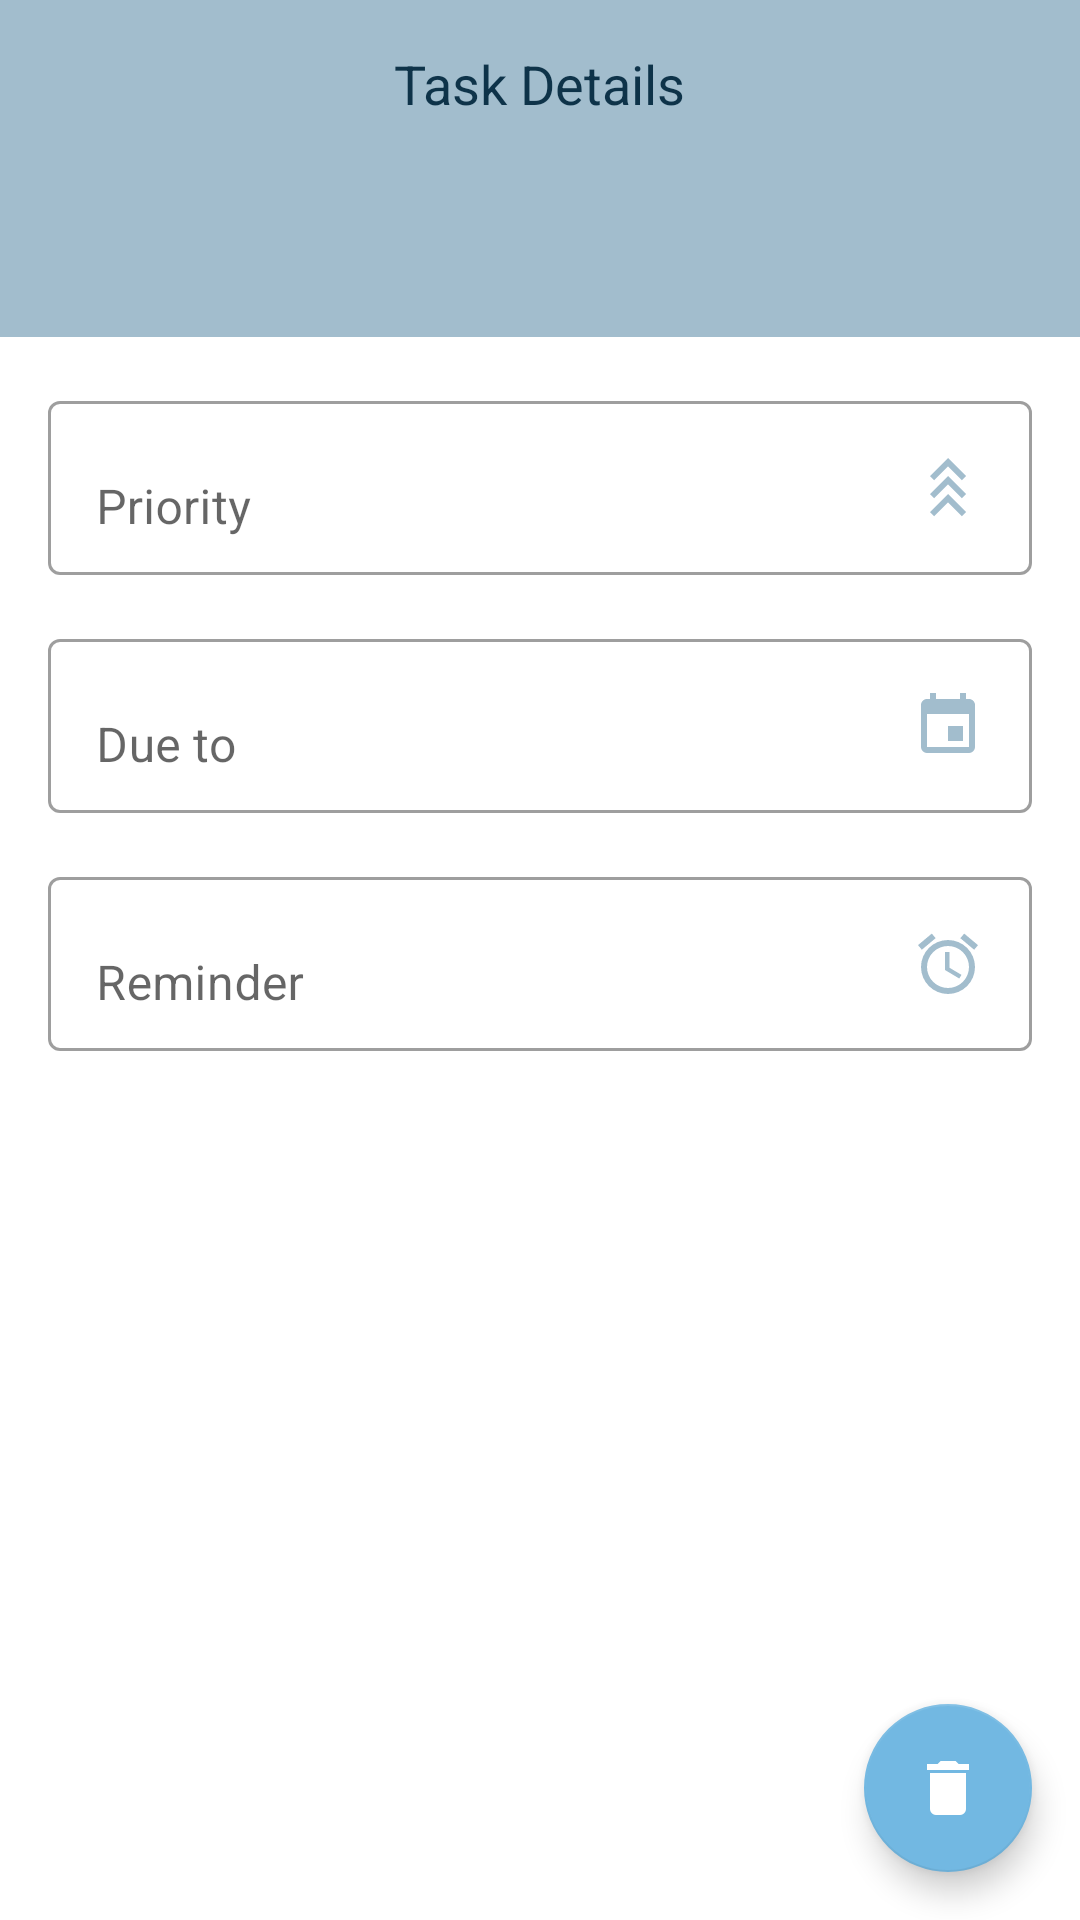

Icon bounding boxes for this 1080x1920 phone screenshot, format {"x1": x1, "y1": y1, "x2": x2, "y2": y2}:
delete: {"x1": 864, "y1": 1704, "x2": 1032, "y2": 1872}
